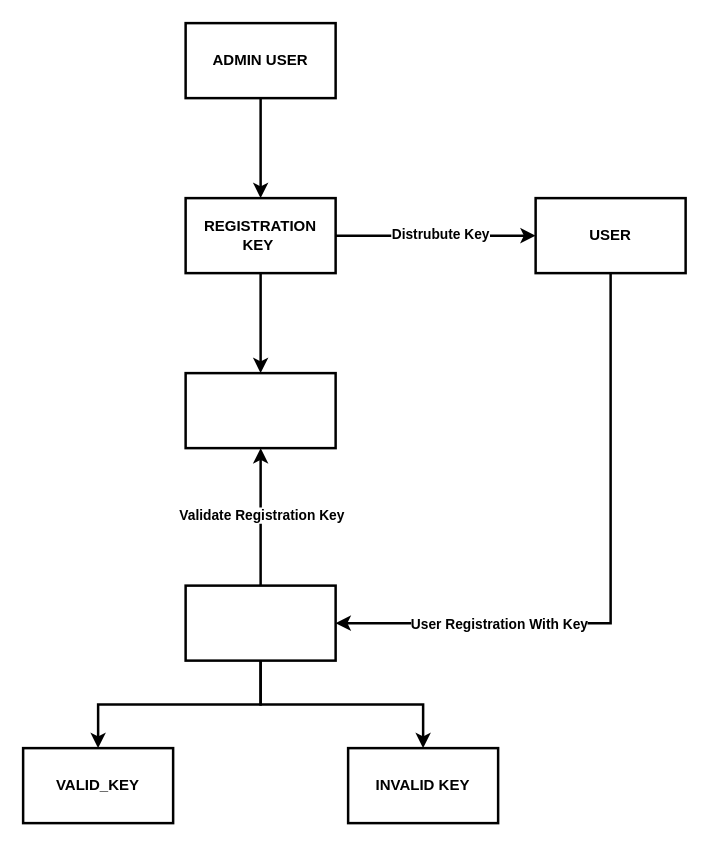
Image size: 708x845. Some labels were removed from this diagram. The box of each missing label's shape, as (x1, y1, x2, y2) in pixels:
DATABASE: (184, 371, 336, 449)
REGISTRATION: (184, 584, 336, 661)
